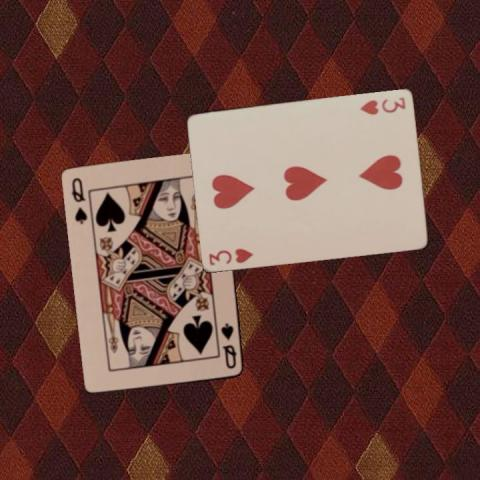3h: (358, 94, 408, 116), (206, 245, 255, 266)
Qs: (218, 320, 238, 371), (69, 175, 89, 224)
